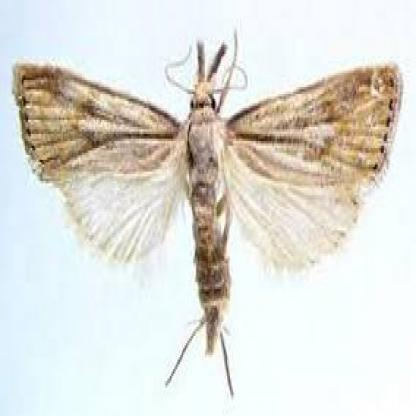stem-borer: (11, 25, 404, 396)
